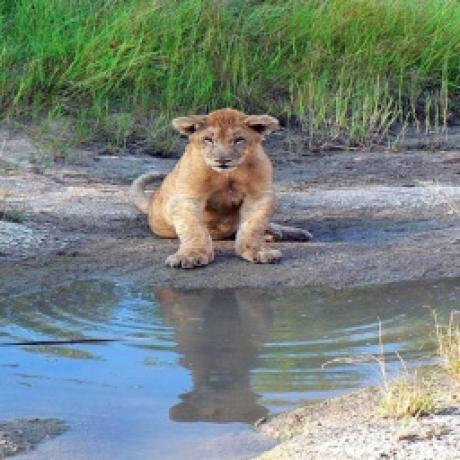Lion: (129, 105, 313, 271)
